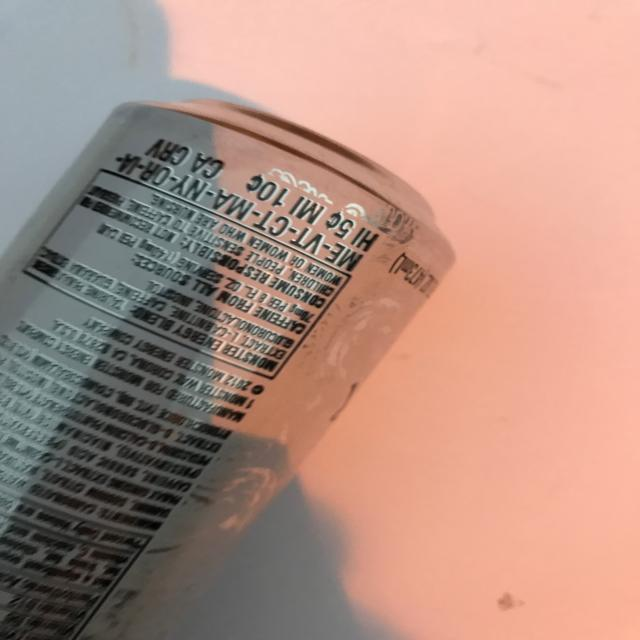metal: (1, 94, 456, 640)
